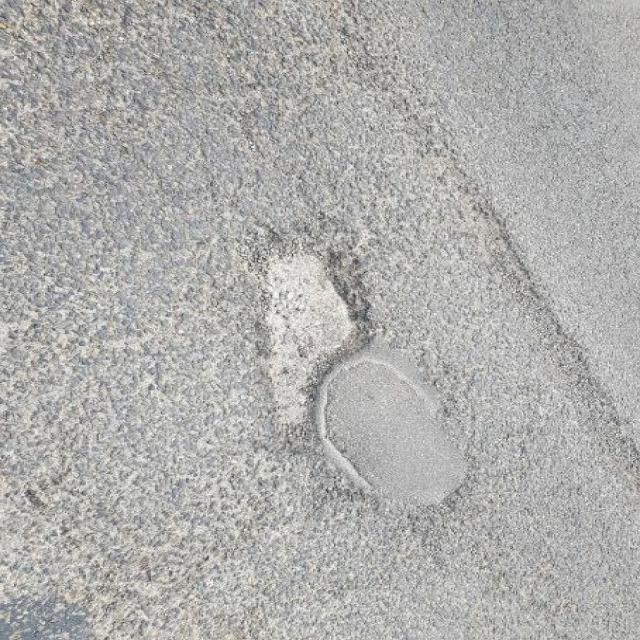Pothole: (230, 231, 380, 438)
